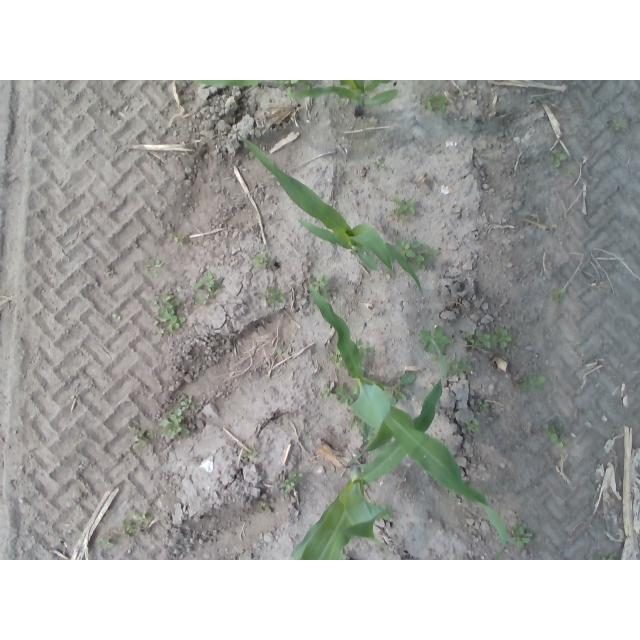Maize: (306, 282, 510, 558), (288, 340, 444, 561), (230, 125, 423, 292), (191, 82, 398, 119)
Weeds: (431, 340, 473, 376), (421, 325, 453, 353), (390, 372, 417, 404), (159, 419, 190, 439), (160, 292, 181, 321), (193, 272, 216, 293), (419, 96, 445, 113), (511, 529, 532, 548), (393, 198, 415, 215), (493, 329, 512, 348), (396, 241, 420, 256), (338, 381, 354, 403), (474, 331, 491, 349), (132, 430, 149, 448), (550, 151, 566, 169), (123, 518, 138, 536), (543, 424, 563, 437), (169, 316, 186, 331), (530, 376, 546, 391), (281, 80, 299, 93), (329, 350, 342, 368), (267, 287, 281, 303), (253, 255, 268, 269), (424, 248, 440, 261), (132, 512, 148, 524), (612, 118, 626, 131), (169, 410, 183, 423), (415, 255, 426, 271), (465, 420, 481, 431), (551, 434, 564, 446), (179, 401, 193, 412), (99, 539, 113, 550), (195, 295, 210, 305), (172, 234, 185, 245), (519, 377, 529, 391), (243, 450, 258, 459), (282, 479, 295, 489), (151, 260, 165, 269), (324, 383, 333, 397), (361, 347, 372, 358), (318, 275, 328, 287), (554, 289, 563, 302), (600, 554, 617, 560), (466, 333, 475, 344), (511, 523, 526, 529), (269, 299, 278, 308), (478, 402, 488, 410), (152, 330, 165, 336), (277, 342, 283, 355), (292, 473, 301, 480), (111, 313, 121, 319), (151, 430, 158, 438), (578, 409, 586, 415), (151, 271, 158, 277), (152, 300, 158, 307), (146, 264, 151, 272), (575, 342, 582, 346), (380, 163, 385, 168), (357, 338, 360, 343)
